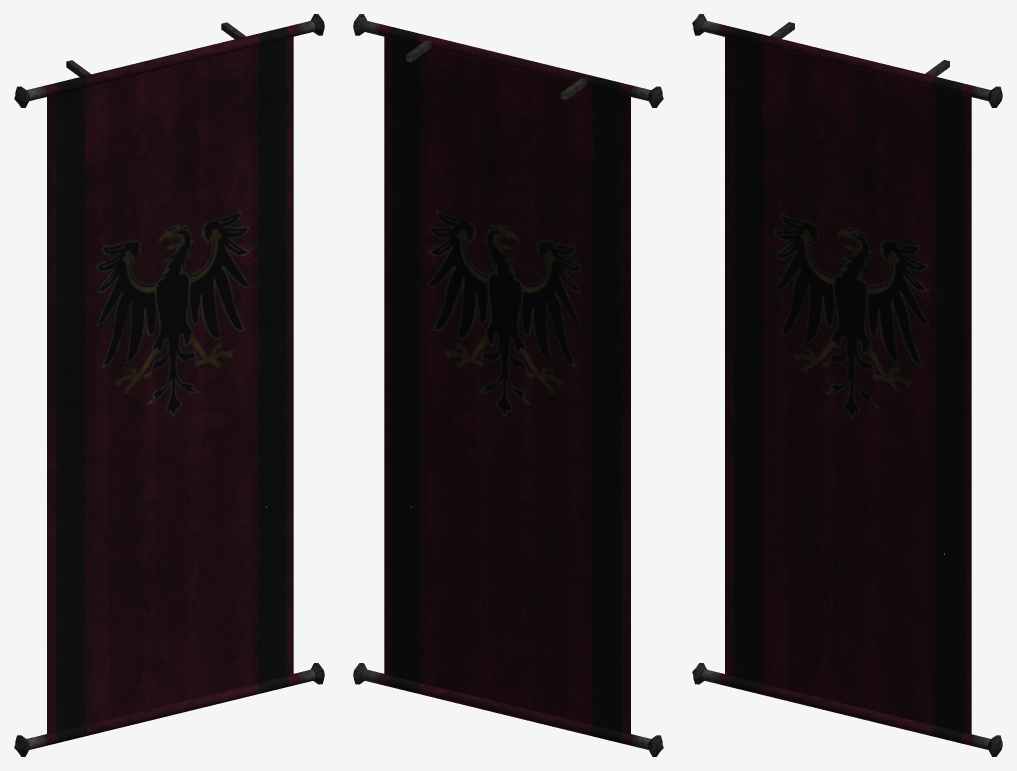
File: banner_long02.dae
The picture shows the model from 3 angles, left to right: view 1: azimuth 30°, elevation 25°; view 2: azimuth 150°, elevation 25°; view 3: azimuth 330°, elevation 25°; orthographic projection.
Visible parts, largest first — view 1: polySurface19, polySurface24, polySurface20, polySurface23; view 2: polySurface19, polySurface24, polySurface20, polySurface23; view 3: polySurface19, polySurface24, polySurface20, polySurface23.
Part boxes in pixels (x1,y1,x2,y2): polySurface19: (47,37,293,734); polySurface24: (47,42,293,730); polySurface20: (14,14,324,107); polySurface23: (14,663,324,756); polySurface19: (384,37,630,734); polySurface24: (384,40,630,729); polySurface20: (353,14,663,107); polySurface23: (353,663,663,756); polySurface19: (725,37,971,734); polySurface24: (725,37,971,733); polySurface20: (692,14,1002,107); polySurface23: (692,663,1002,756).
Size of the model in its own units: 2 by 4.13 by 0.3168.
